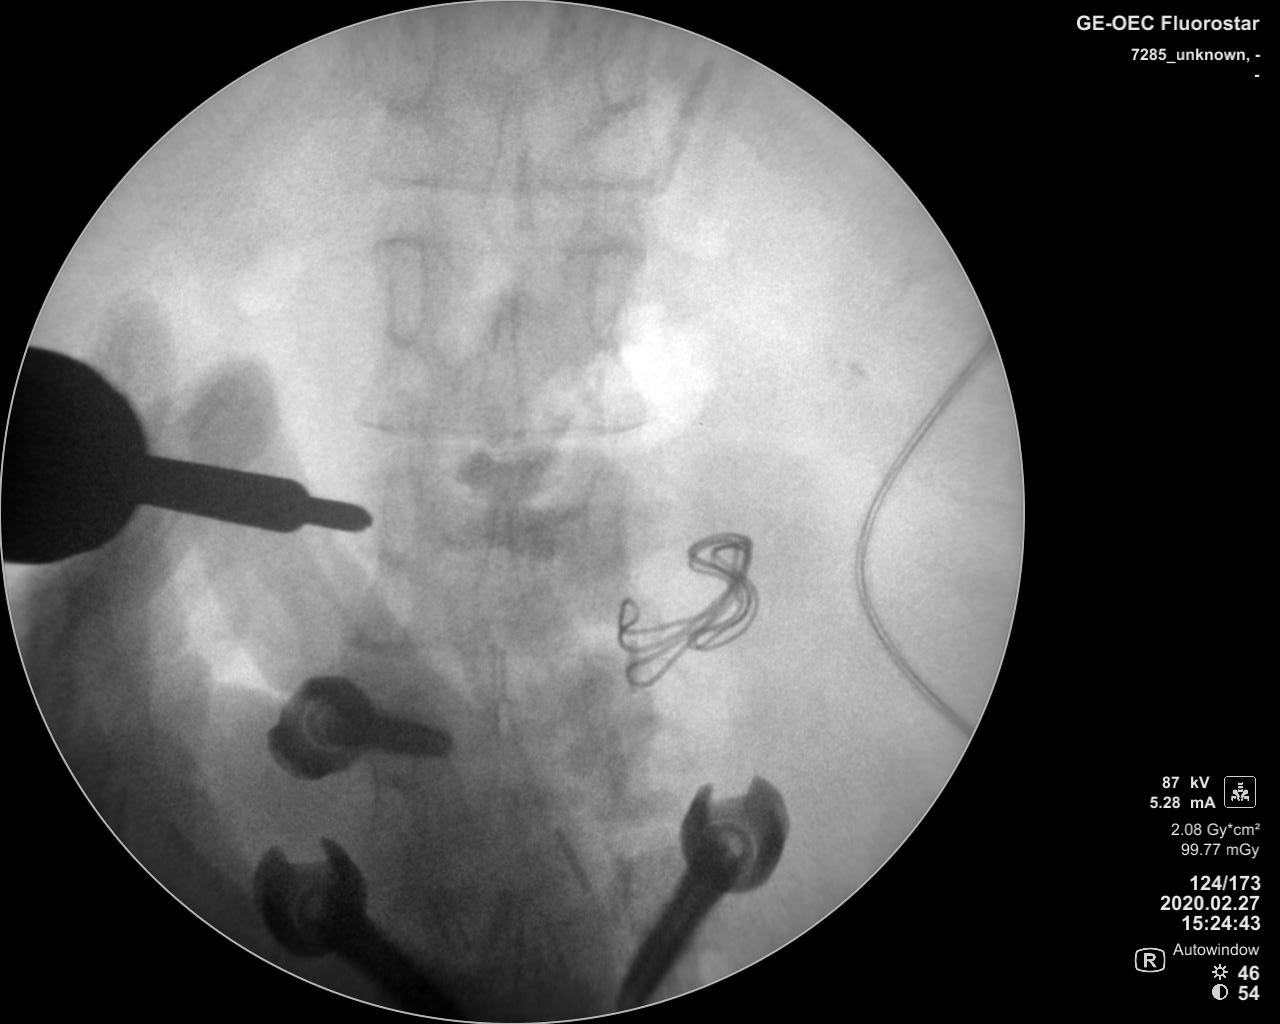eyes: (365, 15, 445, 117), (380, 232, 426, 348), (381, 467, 424, 563), (585, 462, 622, 569), (582, 248, 623, 344)
line: (370, 161, 668, 197), (353, 406, 662, 439), (372, 227, 652, 262)
nose: (471, 288, 527, 441), (481, 88, 533, 236), (473, 491, 523, 644), (484, 692, 535, 808)
